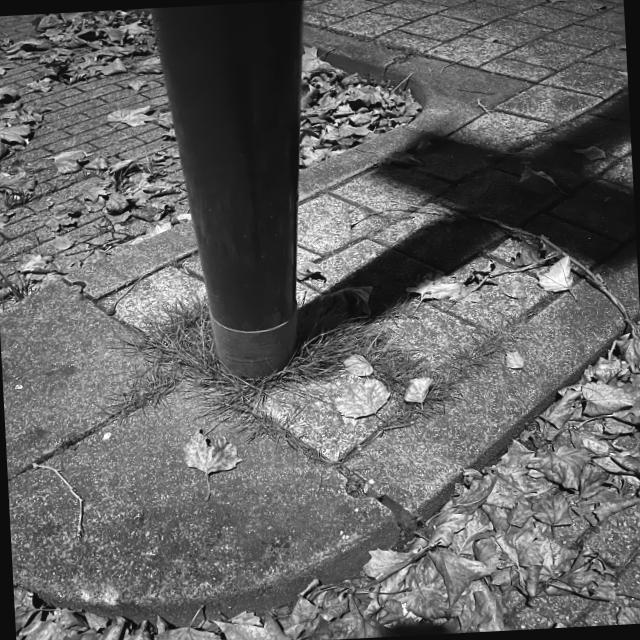leaves: (15, 324, 640, 640), (299, 48, 422, 171), (0, 28, 158, 86), (88, 182, 191, 230), (0, 86, 38, 193), (27, 8, 152, 38), (54, 146, 138, 187), (187, 431, 240, 482), (106, 104, 174, 141), (330, 382, 390, 420), (404, 270, 461, 304), (43, 204, 82, 252), (318, 286, 379, 314), (536, 263, 578, 298), (20, 253, 60, 284), (406, 376, 437, 408), (514, 236, 547, 263), (344, 352, 374, 379), (576, 143, 610, 165), (298, 259, 327, 282), (612, 602, 640, 625), (504, 280, 532, 302), (504, 350, 530, 370), (60, 258, 90, 272)
pavement: (425, 62, 639, 337), (0, 298, 124, 598), (302, 0, 627, 76), (120, 474, 290, 616), (427, 12, 623, 118), (280, 474, 342, 576), (338, 492, 420, 552), (39, 277, 193, 302)
weed: (119, 292, 529, 470), (508, 122, 569, 153), (2, 188, 55, 210)
weedling: (325, 207, 416, 259), (336, 464, 361, 493)
